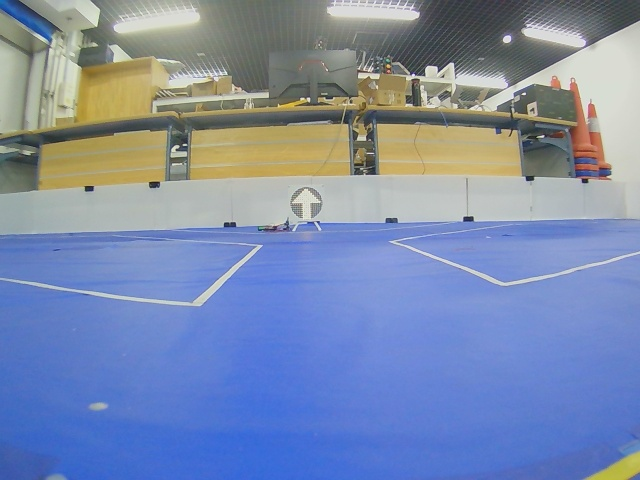straight_yellow: (290, 187, 323, 221)
